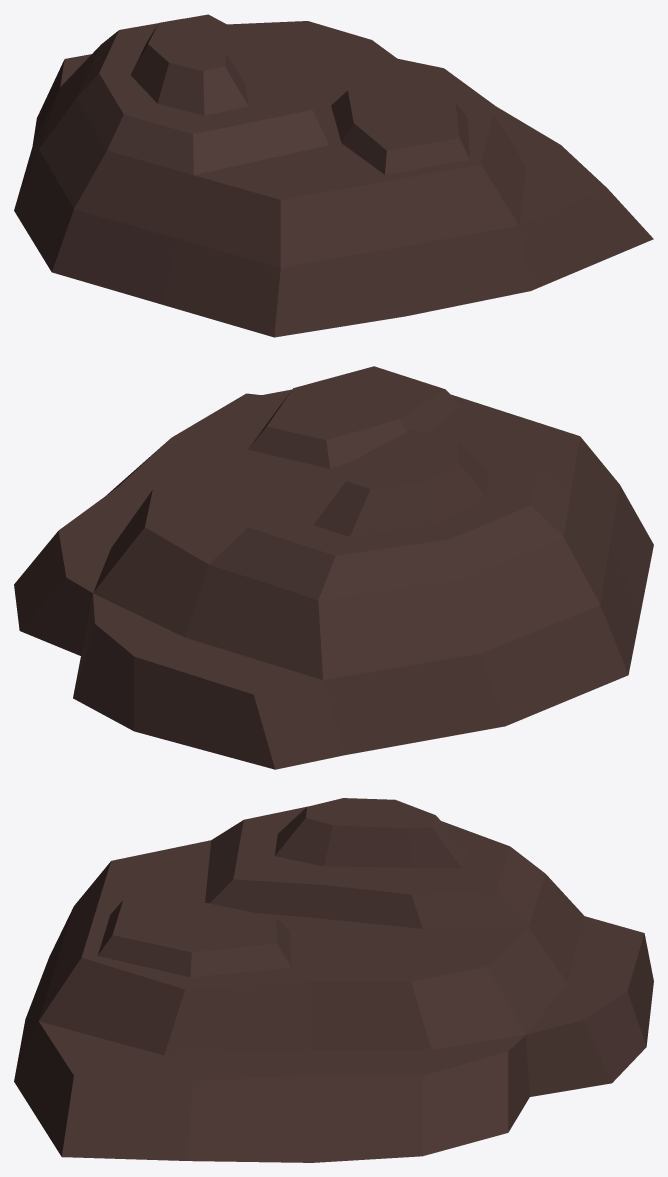
File: Rock_1.fbx
The picture shows the model from 3 angles, top to bottom: view 1: azimuth 30°, elevation 25°; view 2: azimuth 150°, elevation 25°; view 3: azimuth 270°, elevation 25°; orthographic projection. The views are drawn at different scales.
Visible parts, largest first — view 1: Cube; view 2: Cube; view 3: Cube.
Boxes of the visible parts, box(x1,y1,x2,y2) form: Cube: box(14, 14, 653, 337); Cube: box(14, 366, 653, 769); Cube: box(14, 798, 653, 1162).
Bounding box in the file's own units: 468 × 149 × 491.
